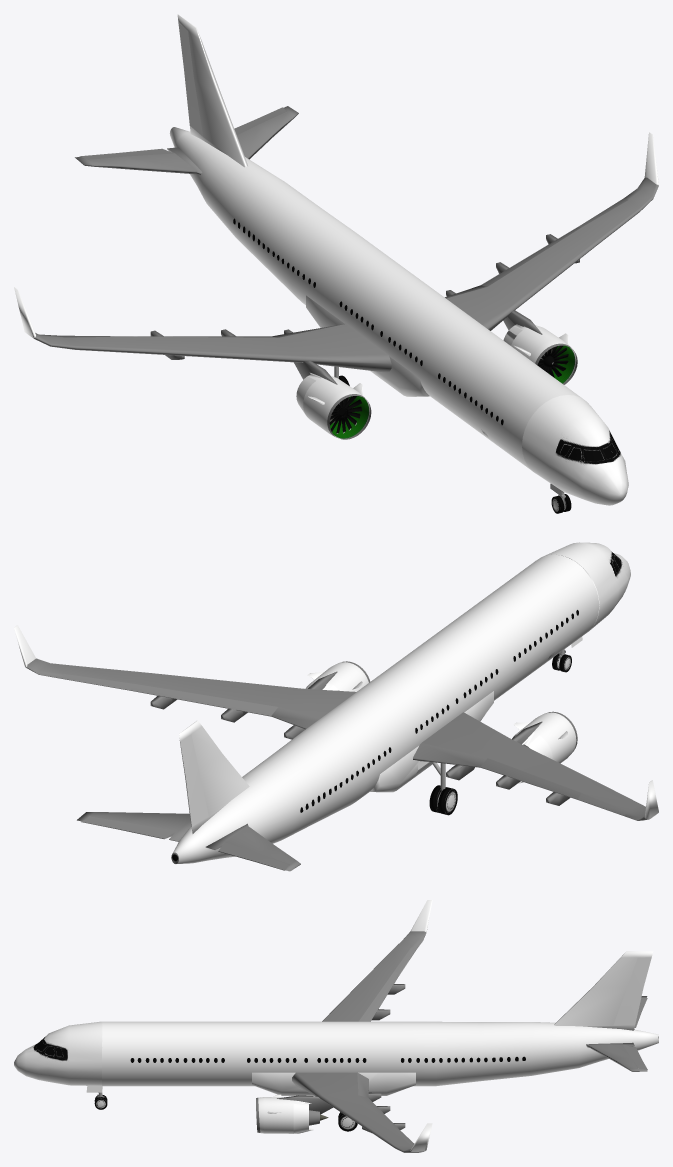
3 views of the same model, one above another, from view 1: azimuth 30°, elevation 25°; view 2: azimuth 150°, elevation 25°; view 3: azimuth 270°, elevation 25° (orthographic). The views are drawn at different scales.
Visible parts, largest first — view 1: vehicle; view 2: vehicle; view 3: vehicle.
Part boxes in pixels (bbox=[...]): vehicle: bbox=[14, 14, 658, 513]; vehicle: bbox=[14, 542, 658, 871]; vehicle: bbox=[14, 900, 658, 1152].
Size of what is drawn, in the model's own units: 36.47 by 12.1 by 44.51.
Materials: 7 (2 with a texture image).
